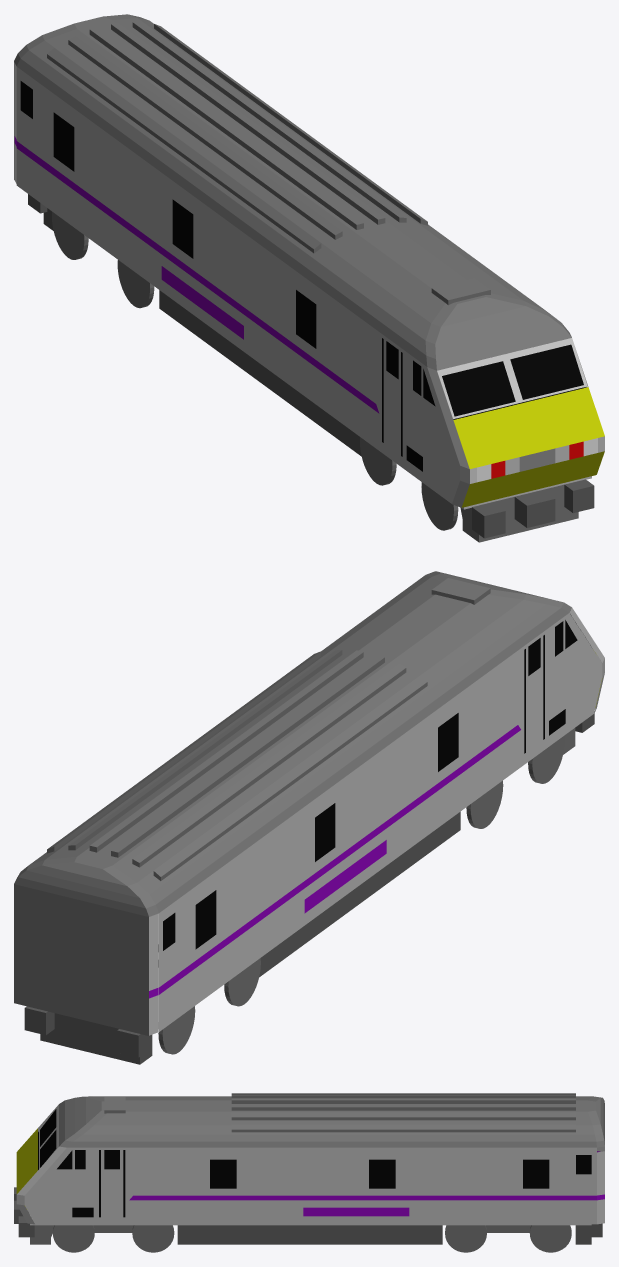
The model's file is br-mk4-dvt-ec.dae.
3 renders of one model, top to bottom at view 1: azimuth 30°, elevation 25°; view 2: azimuth 150°, elevation 25°; view 3: azimuth 270°, elevation 25°, orthographic. The views are drawn at different scales.
Parts seen in each view (by area): view 1: Plane_019, Plane_064, Plane_001, Plane_027, Plane_014, Plane_052, Cube_007, Cube_003, Cube_033, Plane_068, Cube_009, Cube_004 (+24 smaller); view 2: Plane_019, Plane_064, Plane_102, Plane_027, Plane_001, Cube_007, Cube_003, Cube_033, Plane_068, Cube_009, Cube_004, Plane_070 (+19 smaller); view 3: Plane_019, Plane_020, Plane_096, Plane_001, Cube_033, Plane_023, Plane_099, Plane_003, Cube_008, Plane_007, Cube_010, Plane (+33 smaller).
Boxes of the visible parts, x1,y1,x2,y2 form: Plane_019: [14, 14, 466, 306]; Plane_064: [16, 67, 374, 395]; Plane_001: [344, 237, 571, 370]; Plane_027: [16, 148, 402, 467]; Plane_014: [453, 387, 604, 468]; Plane_052: [442, 344, 585, 419]; Cube_007: [47, 48, 321, 253]; Cube_003: [68, 36, 342, 239]; Cube_033: [159, 290, 361, 456]; Plane_068: [16, 134, 459, 464]; Cube_009: [111, 22, 385, 224]; Cube_004: [89, 28, 363, 229]; Plane_019: [14, 633, 486, 916]; Plane_064: [158, 673, 516, 979]; Plane_102: [14, 884, 148, 1035]; Plane_027: [158, 711, 544, 1031]; Plane_001: [346, 571, 571, 672]; Cube_007: [153, 675, 427, 880]; Cube_003: [132, 663, 406, 867]; Cube_033: [259, 811, 460, 977]; Plane_068: [158, 658, 601, 987]; Cube_009: [89, 650, 363, 852]; Cube_004: [111, 655, 384, 857]; Plane_070: [158, 725, 520, 994]; Plane_019: [173, 1096, 604, 1147]; Plane_020: [136, 1152, 495, 1190]; Plane_096: [99, 1195, 453, 1224]; Plane_001: [59, 1096, 204, 1147]; Cube_033: [177, 1225, 442, 1244]; Plane_023: [433, 1200, 596, 1224]; Plane_099: [463, 1152, 596, 1190]; Plane_003: [25, 1190, 596, 1195]; Cube_008: [231, 1124, 575, 1132]; Plane_007: [129, 1195, 596, 1200]; Cube_010: [231, 1113, 575, 1120]; Plane: [29, 1171, 151, 1190].
Bounding box in the file's own units: 2.01 × 11.15 × 2.74.
